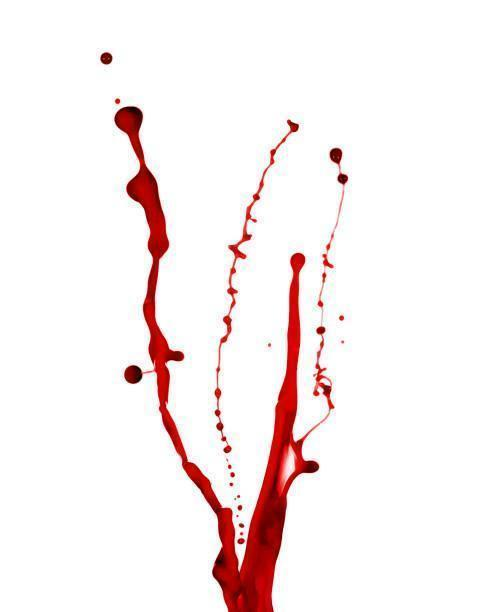Fire: (115, 107, 319, 612), (213, 119, 300, 502), (302, 147, 349, 440), (124, 366, 154, 384), (100, 53, 111, 64)
